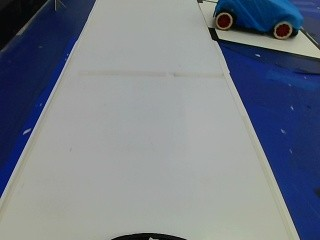car: (210, 0, 304, 42)
